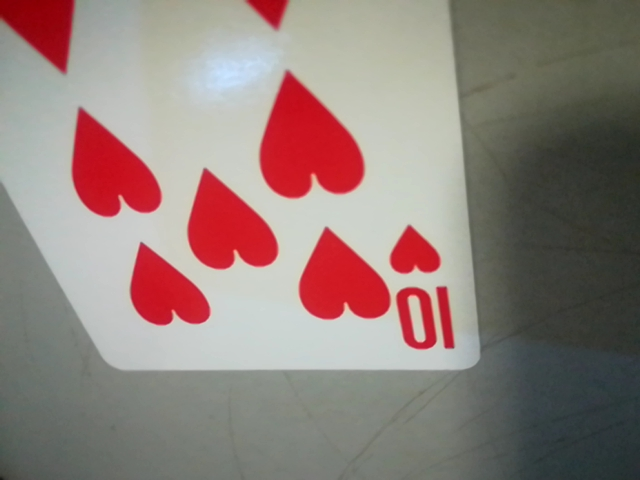hx 10: (384, 220, 472, 363)
